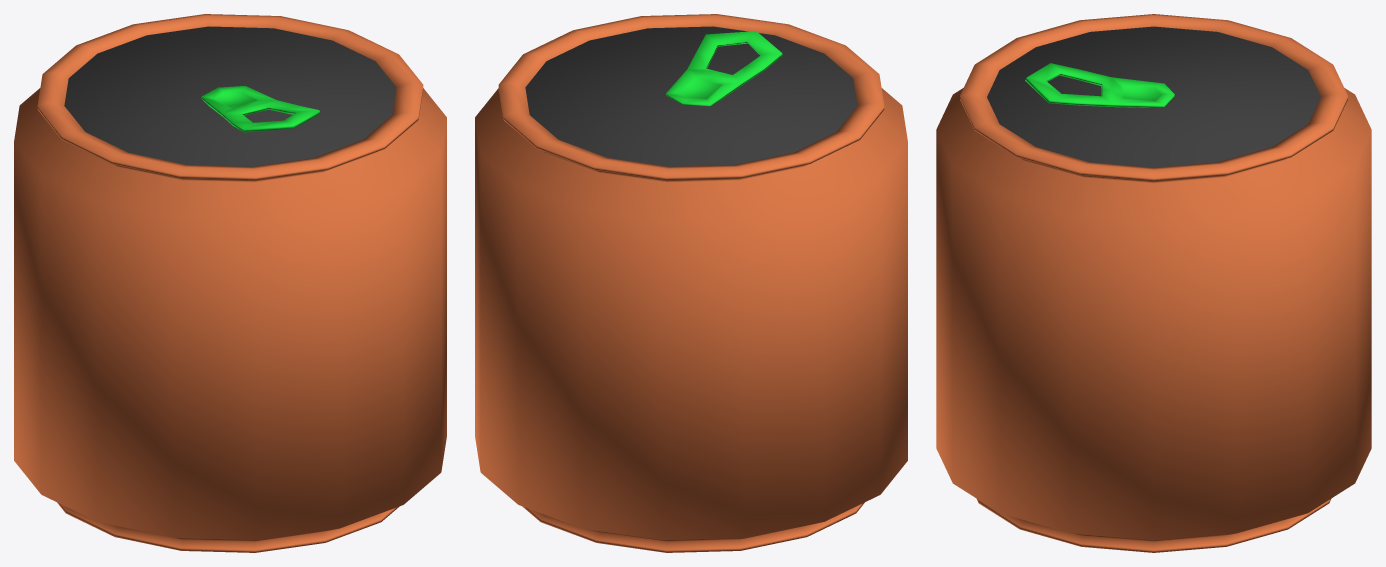
File: Can2.fbx
3 renders of one model, left to right at view 1: azimuth 30°, elevation 25°; view 2: azimuth 150°, elevation 25°; view 3: azimuth 270°, elevation 25°, orthographic.
Visible parts, largest first — view 1: Cylinder.003, Cylinder.002, Plane.002; view 2: Cylinder.003, Cylinder.002, Plane.002; view 3: Cylinder.003, Cylinder.002, Plane.002.
Part boxes in pixels (x1,y1,x2,y2): Cylinder.003: (14,14,446,552); Cylinder.002: (64,26,396,166); Plane.002: (201,86,320,132); Cylinder.003: (475,14,907,552); Cylinder.002: (525,26,857,166); Plane.002: (666,31,782,106); Cylinder.003: (936,14,1371,552); Cylinder.002: (987,26,1320,167); Plane.002: (1025,63,1174,107).
Bounding box in the file's own units: 17.39 × 17.55 × 17.39.
